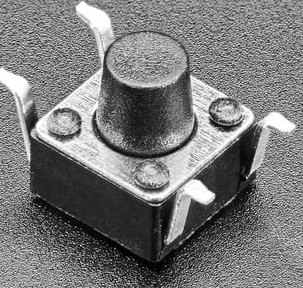Button: (2, 7, 285, 277)
